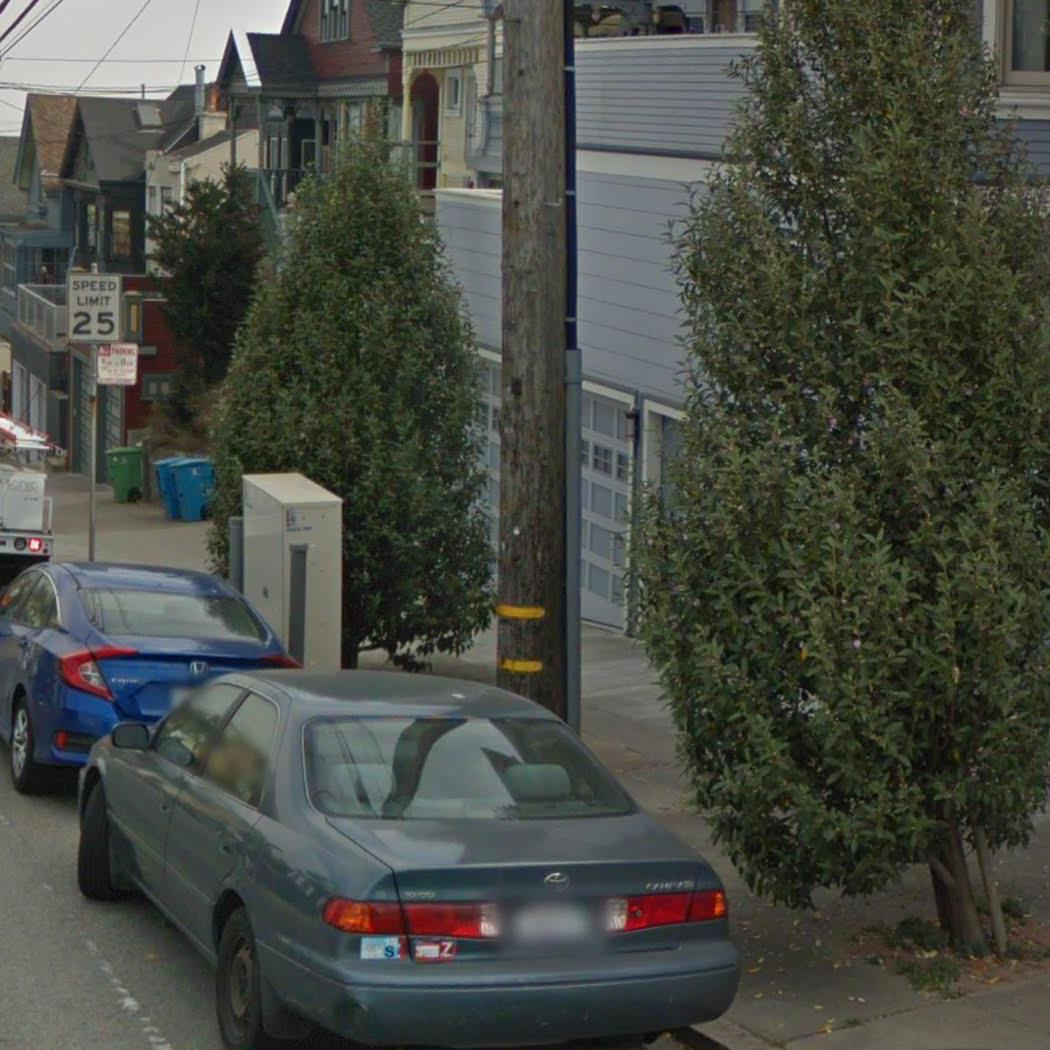No Parking: (94, 346, 140, 389)
